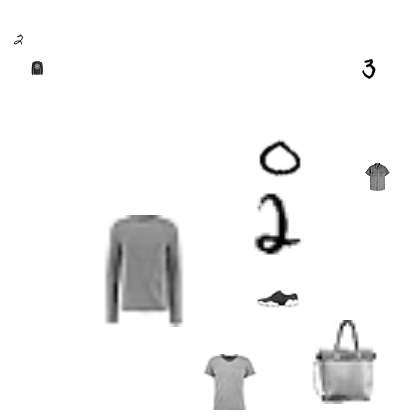0: (250, 130, 306, 186)
2: (234, 185, 318, 269), (12, 33, 26, 47)
3: (355, 54, 383, 82)
Bag: (301, 320, 385, 404)
Pullover: (86, 215, 198, 327), (30, 61, 44, 75)
Shirt: (363, 163, 391, 191)
Sneaker: (257, 277, 299, 319)
T-shirt/top: (202, 354, 258, 410)
